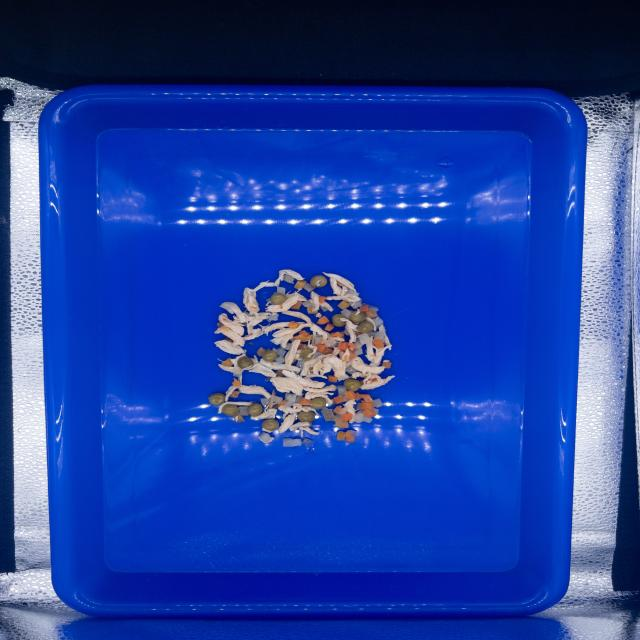Carrot: (357, 400, 377, 418), (290, 330, 314, 342), (346, 342, 356, 358), (337, 431, 352, 441), (294, 280, 307, 290), (330, 331, 345, 339), (337, 301, 350, 310), (335, 420, 349, 428), (345, 390, 356, 400), (372, 339, 384, 348), (340, 412, 352, 421), (333, 395, 345, 404), (316, 316, 329, 324), (257, 347, 267, 357), (291, 301, 302, 310), (315, 343, 326, 352), (222, 357, 233, 366), (287, 321, 299, 329), (361, 394, 373, 402), (338, 342, 348, 351), (232, 378, 242, 387), (365, 311, 377, 318), (300, 398, 311, 405), (325, 323, 334, 331), (328, 375, 337, 383), (307, 307, 317, 314), (359, 305, 368, 312), (355, 392, 362, 401), (230, 391, 239, 398), (333, 406, 342, 413), (277, 401, 287, 407), (382, 362, 392, 368), (348, 343, 357, 349), (346, 437, 355, 442), (319, 296, 325, 303)
Chicken_Shred: (300, 347, 385, 382), (269, 370, 337, 405), (214, 302, 256, 355), (243, 280, 276, 319), (265, 289, 307, 315), (270, 323, 312, 348), (218, 354, 248, 384), (365, 336, 392, 367), (322, 272, 356, 296), (351, 372, 396, 390), (243, 355, 277, 377), (310, 322, 345, 343), (325, 286, 361, 306), (278, 402, 317, 420), (242, 317, 270, 340), (260, 358, 302, 373), (307, 291, 334, 312), (275, 269, 305, 287), (340, 318, 360, 343), (289, 421, 319, 437), (284, 339, 301, 367), (238, 385, 271, 399), (281, 310, 312, 324), (218, 402, 252, 414), (278, 413, 297, 434), (251, 405, 277, 419), (343, 399, 356, 423), (225, 384, 242, 402), (263, 322, 290, 333), (379, 324, 391, 346), (307, 340, 317, 358), (366, 316, 376, 332), (258, 312, 271, 316), (316, 313, 322, 318)
Peas: (222, 404, 239, 416), (344, 379, 361, 391), (310, 275, 327, 287), (237, 357, 253, 369), (209, 393, 225, 405), (247, 404, 263, 416), (350, 311, 366, 323), (270, 293, 286, 305), (262, 419, 279, 430), (298, 411, 315, 422), (332, 314, 346, 327), (358, 322, 374, 333), (262, 350, 277, 361), (311, 398, 326, 409), (301, 349, 314, 360)
Potato_White: (354, 331, 385, 356), (354, 410, 373, 423), (337, 386, 349, 401), (283, 439, 302, 447), (372, 316, 383, 329), (348, 298, 362, 308), (303, 283, 316, 293), (341, 309, 352, 320), (272, 348, 287, 356), (259, 432, 271, 442), (345, 288, 360, 296), (324, 338, 336, 347), (285, 393, 297, 402), (282, 399, 295, 407), (296, 360, 306, 370), (373, 398, 384, 407), (238, 406, 248, 415), (283, 275, 294, 283), (346, 366, 357, 374), (346, 430, 357, 437), (314, 336, 323, 344), (261, 398, 270, 406), (275, 356, 285, 363), (281, 343, 291, 350), (273, 396, 283, 403), (314, 351, 324, 358), (301, 302, 312, 308), (277, 287, 285, 295), (342, 328, 350, 336), (270, 314, 279, 321), (295, 396, 304, 403), (371, 407, 379, 414), (320, 306, 328, 312), (330, 343, 336, 347)
